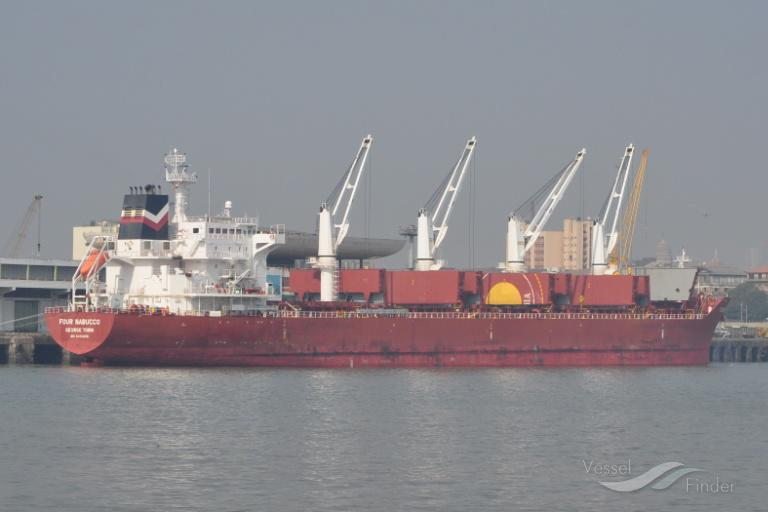OCR: (55, 314, 101, 349)
